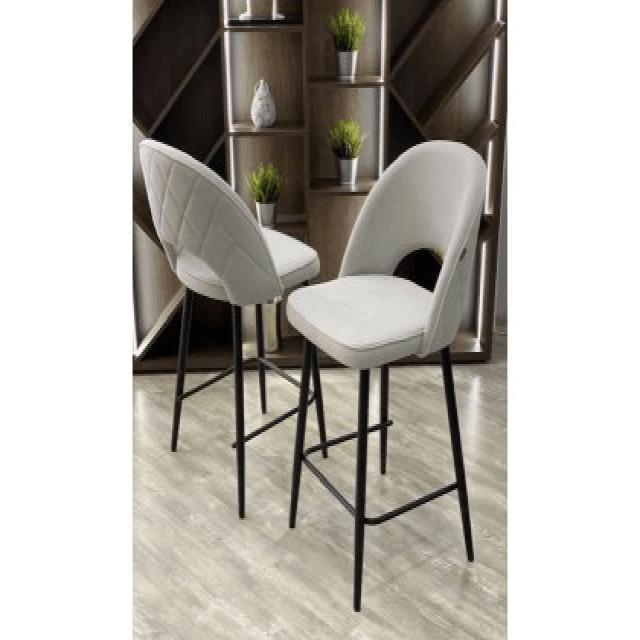chair: (286, 132, 489, 614), (136, 135, 332, 527), (291, 130, 485, 362), (139, 133, 318, 302)
